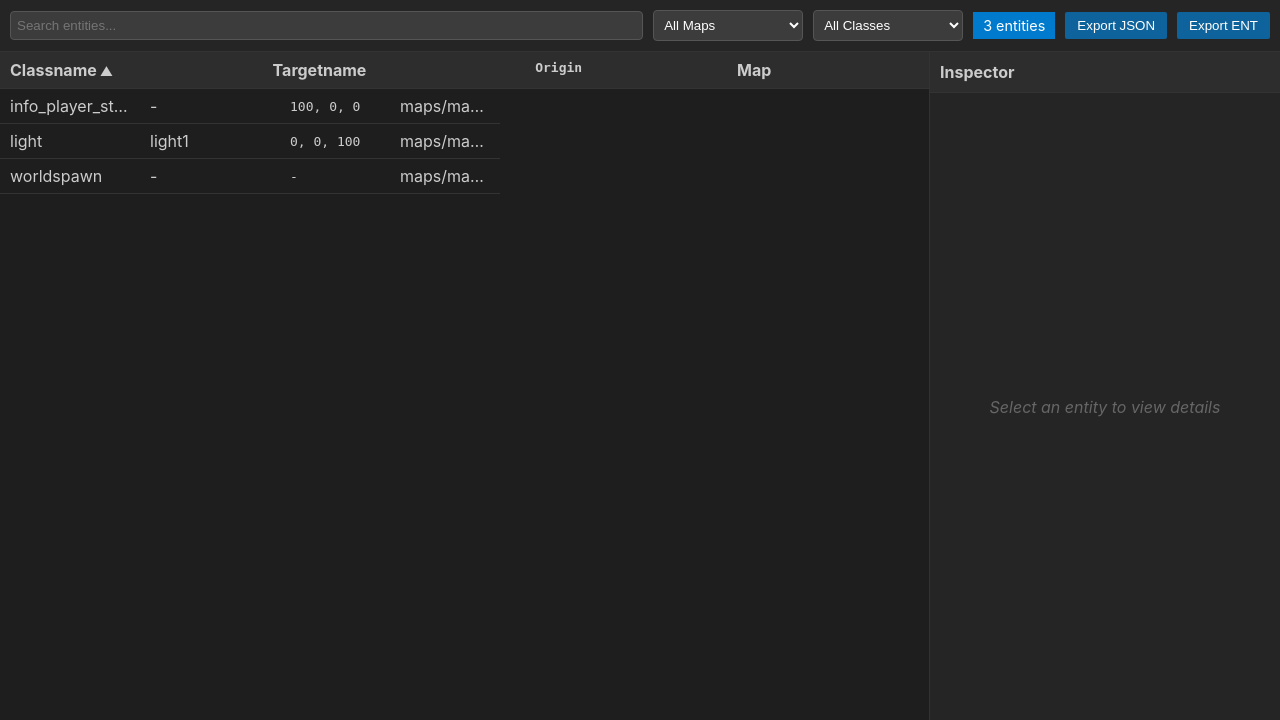
Test case: EntityDatabase Component › filters by search query
In the field with placeholder "Search entities...": (327, 26) [10,11,643,40], type "light"
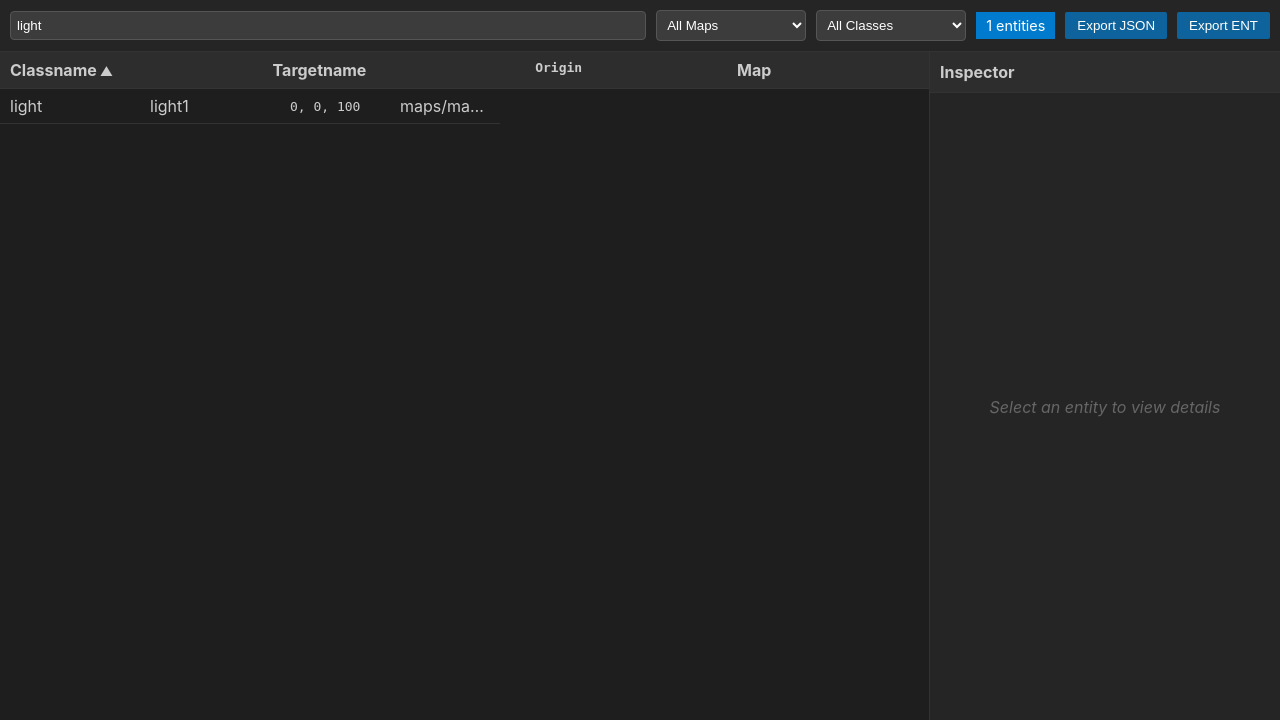
Check: the text titled "info_player_start" is gone
